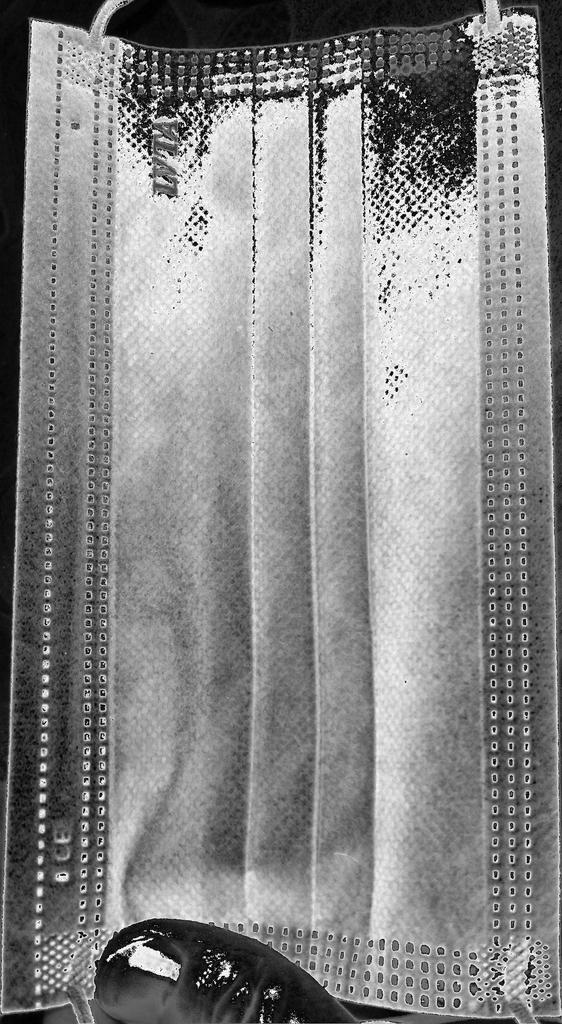High GSM: (107, 14, 470, 915)
